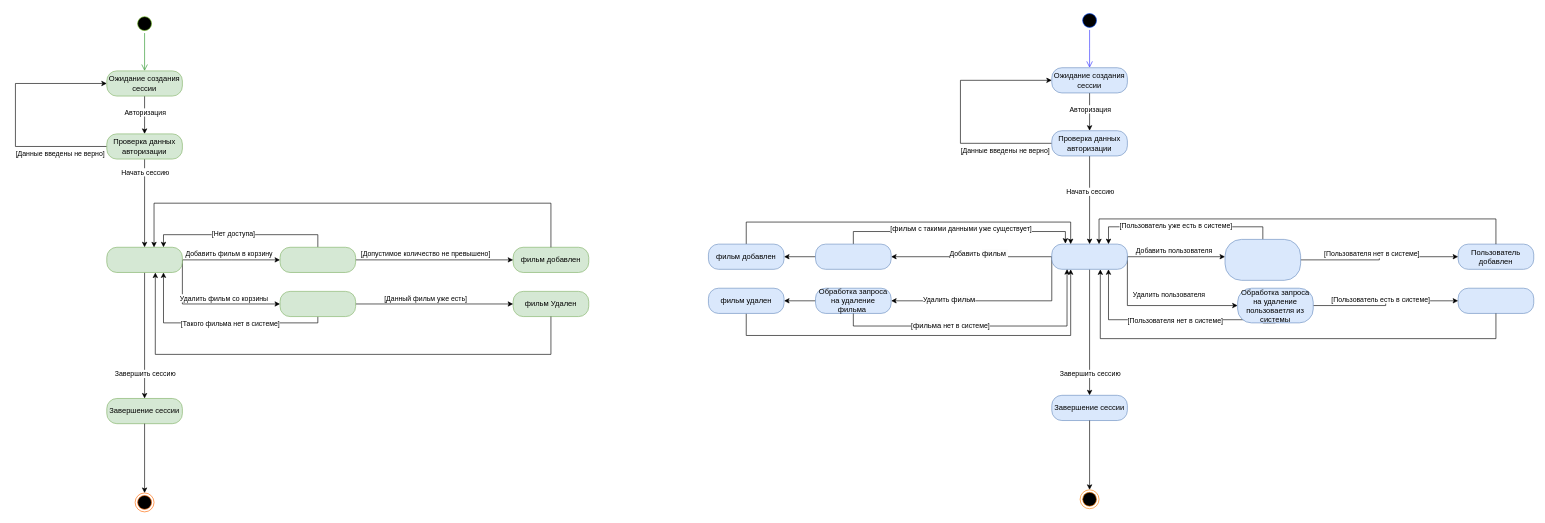
The diagram is 1545 pixels wide and 523 high, and some of its shapes have lost their labels. Here are the shapes that lost their labels. From the top down, the box of each, then its label:
(106, 247, 182, 272): Ожидание выбора Фильма
(279, 247, 356, 272): Обработка запроса на добавление
(815, 243, 891, 269): Обработка запроса на добавление фильма
(1051, 243, 1127, 269): Ожидание выбора действия
(1224, 239, 1301, 280): Обработка запроса на добавление пользователя в систему
(279, 291, 356, 317): Обработка запроса на удаление
(1458, 288, 1534, 313): Пользователь удален
